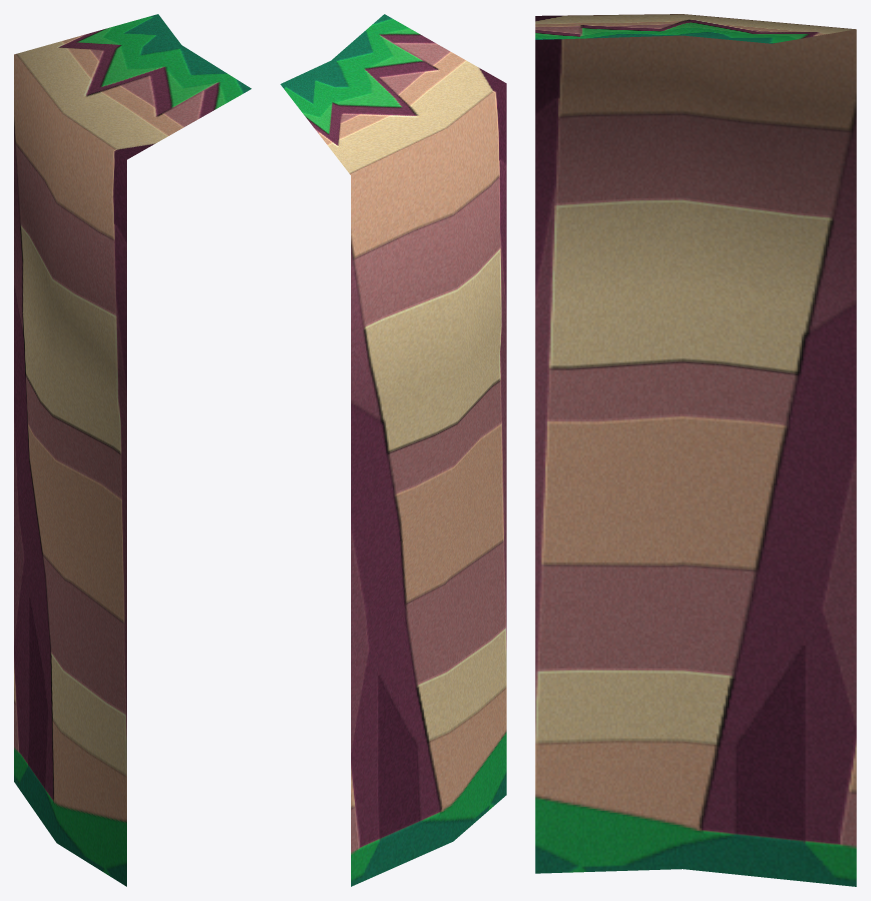
The model's file is Wall3.FBX.
3 views of the same model, side by side, from view 1: azimuth 30°, elevation 25°; view 2: azimuth 150°, elevation 25°; view 3: azimuth 270°, elevation 25° (orthographic). The views are drawn at different scales.
Parts seen in each view (by area): view 1: Plane004; view 2: Plane004; view 3: Plane004.
Boxes of the visible parts, x1,y1,x2,y2 form: Plane004: (14,14,251,886); Plane004: (280,14,506,886); Plane004: (535,14,856,886).
Size of the model in its own units: 4.78 by 23.75 by 7.64.
1 material, 1 textured.
